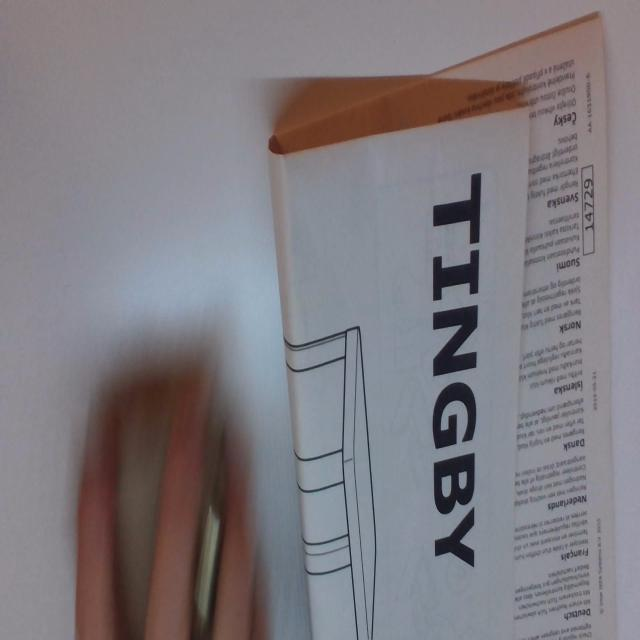Paper: (267, 15, 622, 640)
